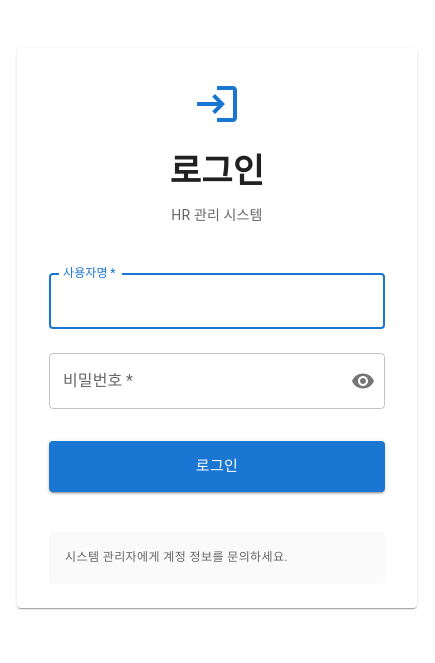
Test case: Login Component › displays error message on login failure
In the field named "username": (217, 301) x1=49 y1=273 x2=385 y2=329, type "wronguser"
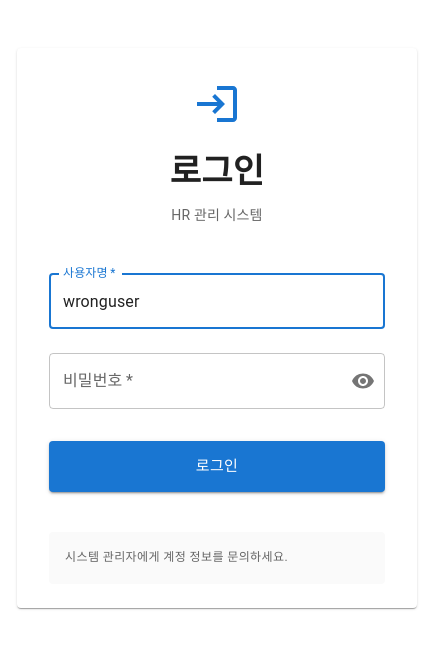
In the password field named "password": (192, 381) x1=49 y1=353 x2=335 y2=409, type "wrongpass"
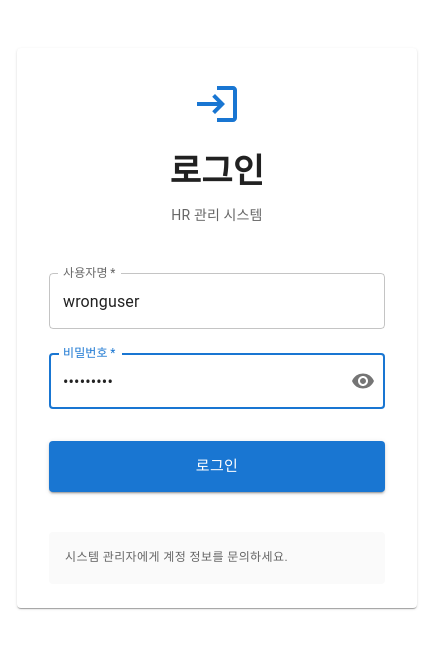
Click the button "로그인": (217, 467) x1=49 y1=441 x2=385 y2=492
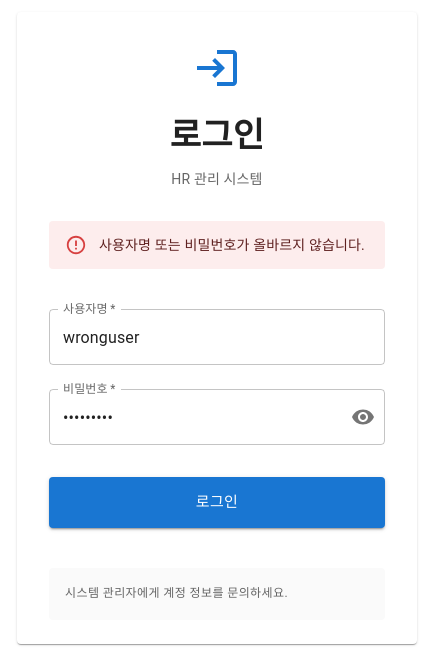
Now the text "사용자명 또는 비밀번호가 올바르지 않습니다." is shown, box x1=99 y1=237 x2=365 y2=253
